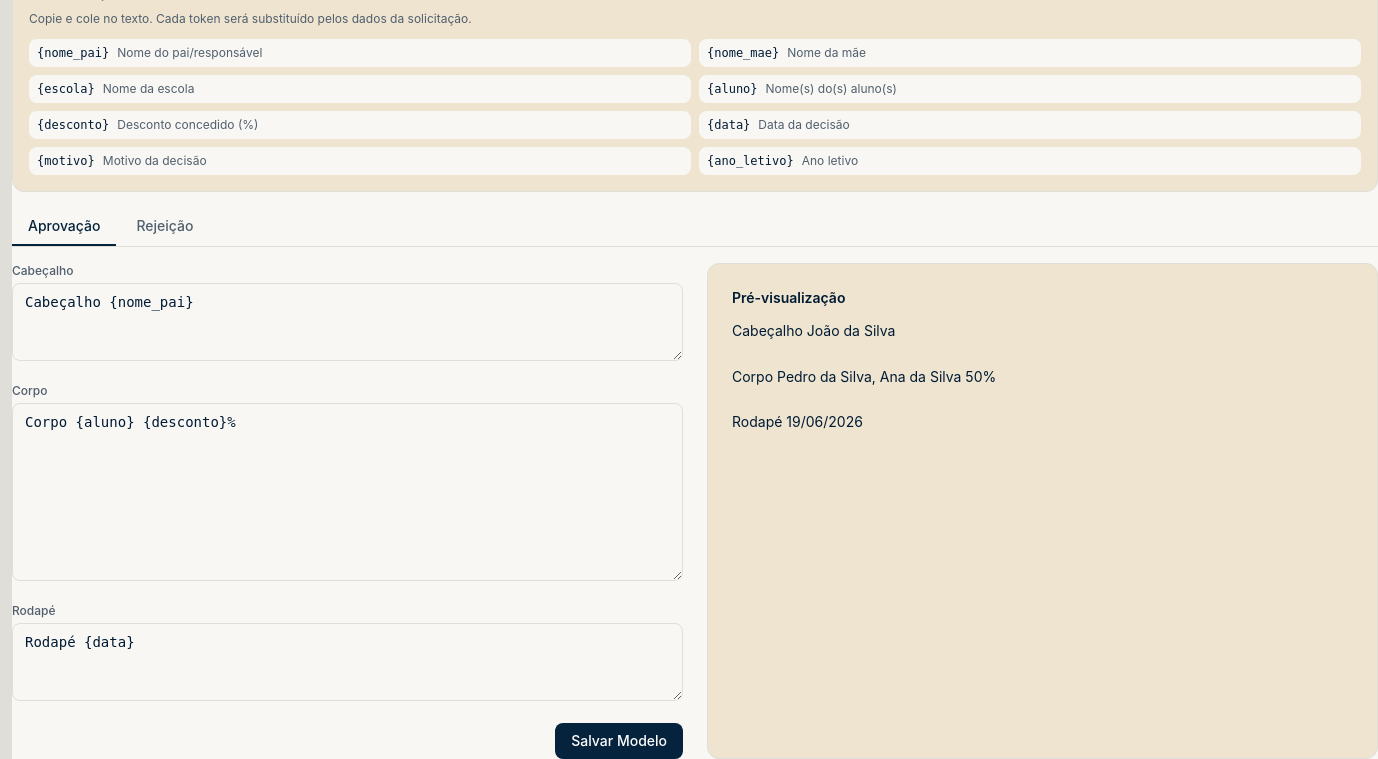
TemplateEditor › shows error message on save failure
(page scrolled)
Click the button with test id "save-button" at (619, 741), box [555,723,683,758]
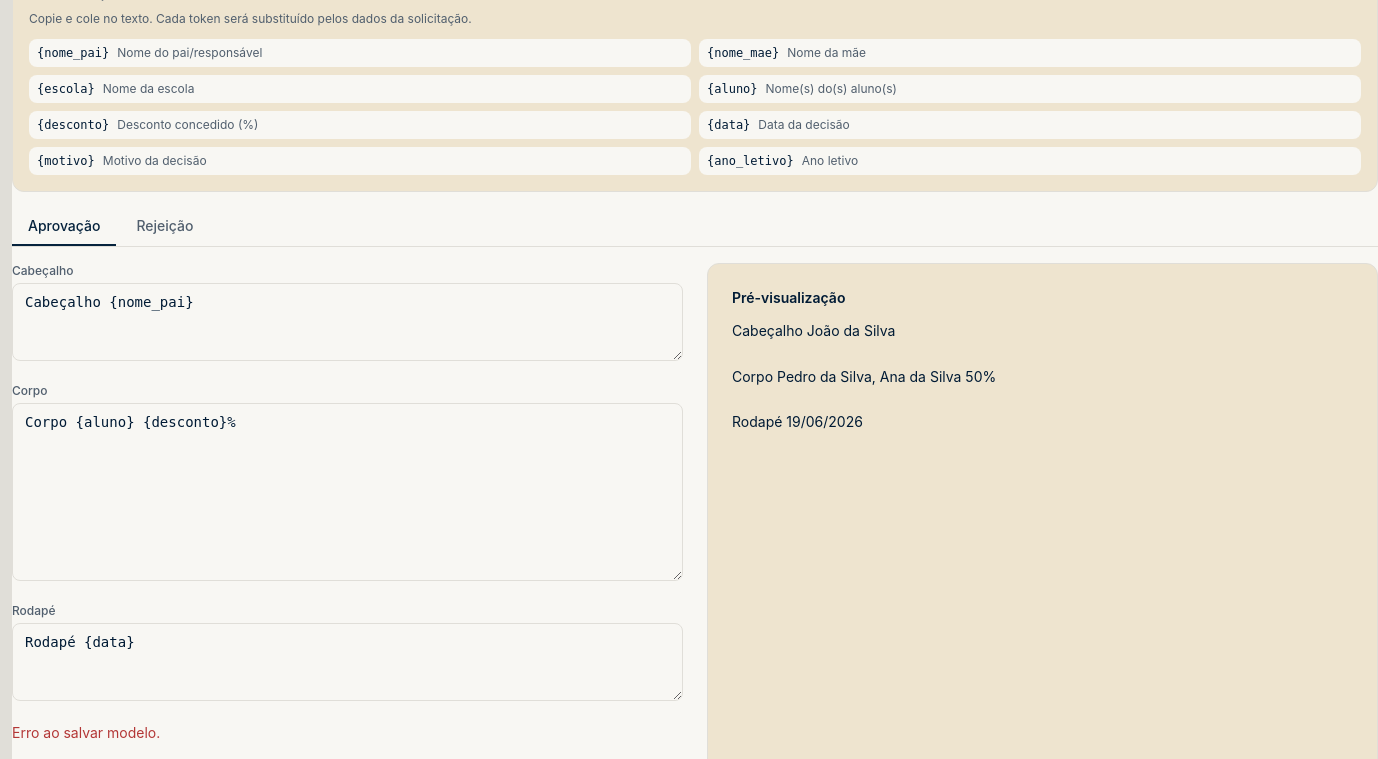
Now the text with test id "save-message" reads "Erro ao salvar modelo.", box [12,724,160,741]
